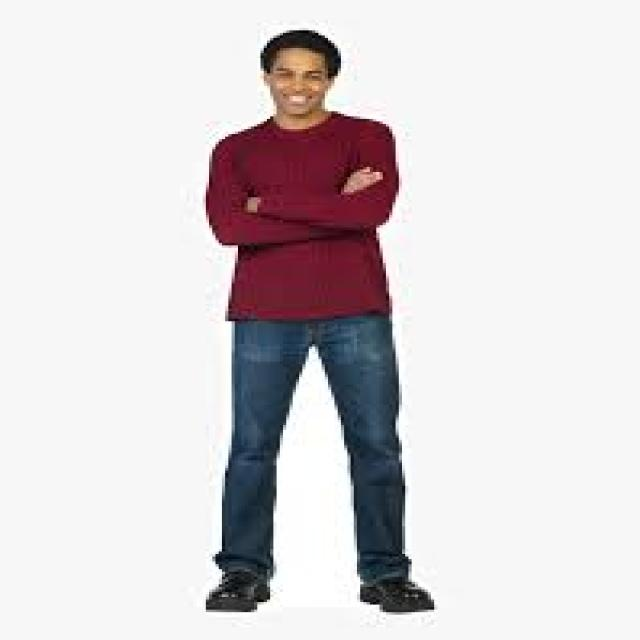adult: (170, 7, 446, 640)
